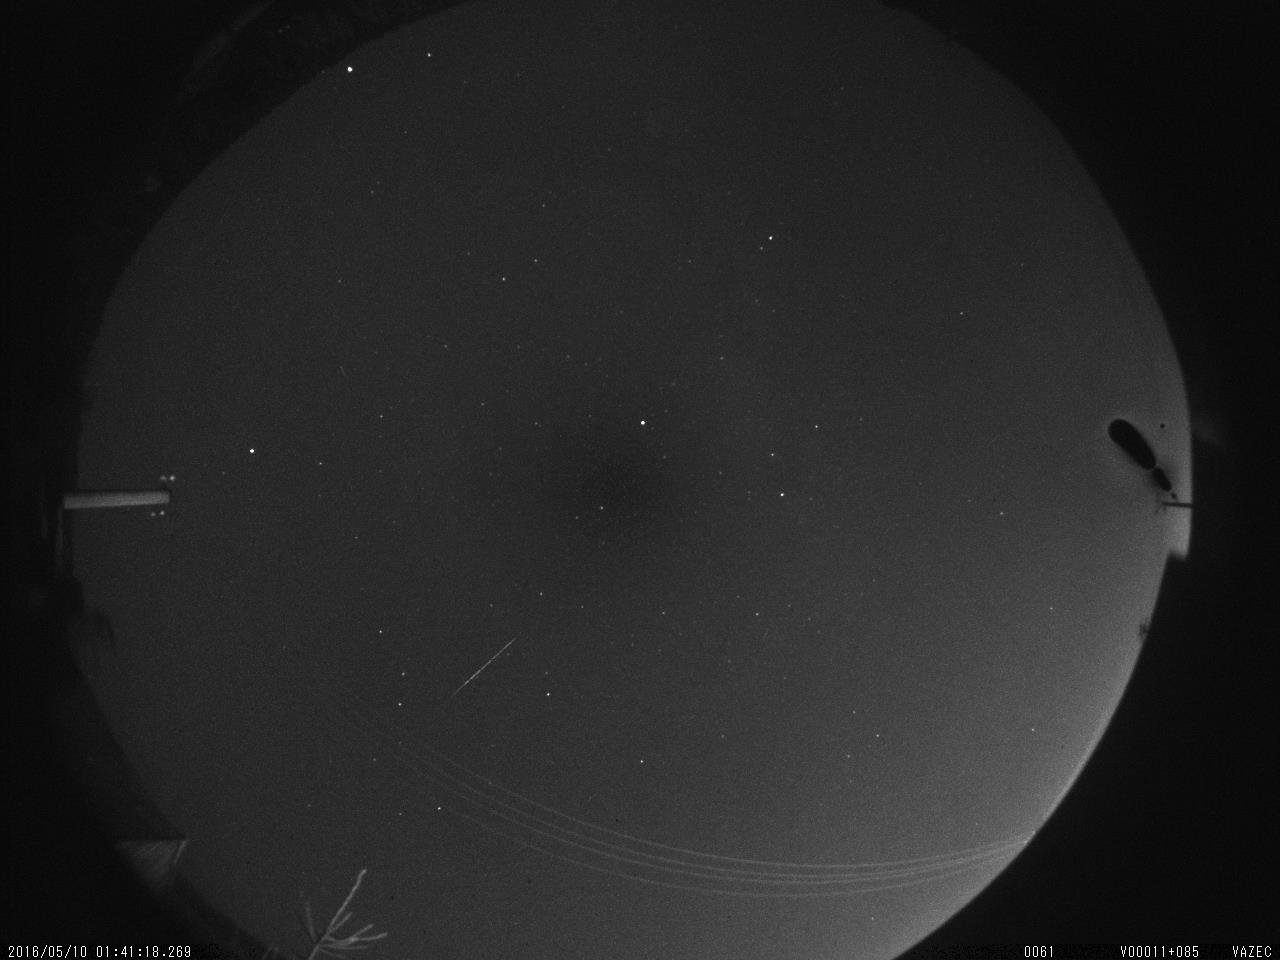meteor: (418, 611, 564, 715)
